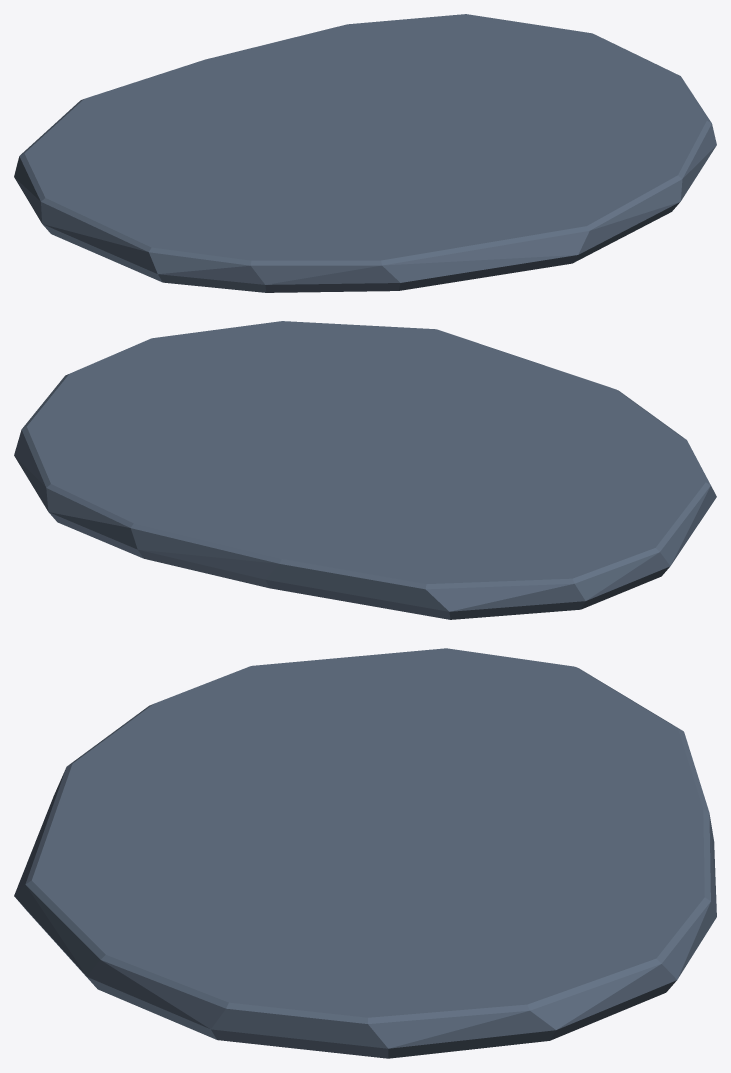
Rendered from slate-flake-path-stone-514513.glb.
3 views of the same model, one above another, from view 1: azimuth 30°, elevation 25°; view 2: azimuth 150°, elevation 25°; view 3: azimuth 270°, elevation 25° (orthographic). The views are drawn at different scales.
Visible parts, largest first — view 1: slate-flake; view 2: slate-flake; view 3: slate-flake.
Part boxes in pixels (left/top/right/bottom): slate-flake: left=14, top=14, right=716, bottom=292; slate-flake: left=14, top=321, right=716, bottom=619; slate-flake: left=14, top=648, right=716, bottom=1058.
Size of the model in its own units: 4.85 by 0.24 by 3.78.
